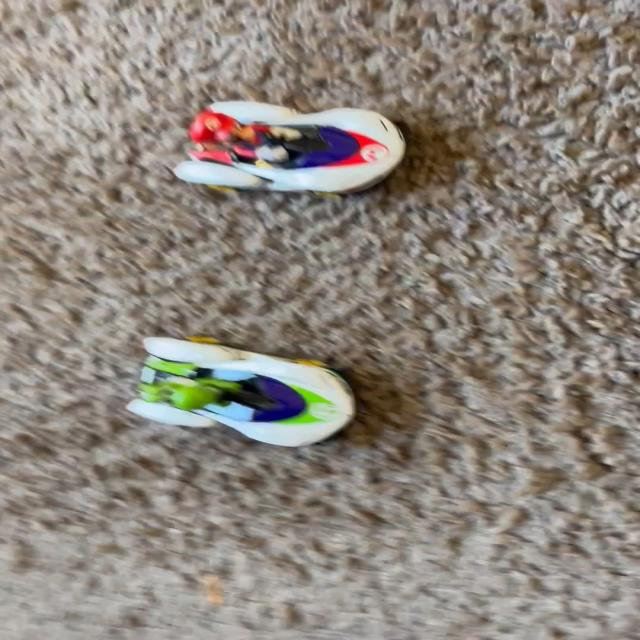mario: (163, 77, 423, 213)
yoshi: (115, 319, 376, 456)
